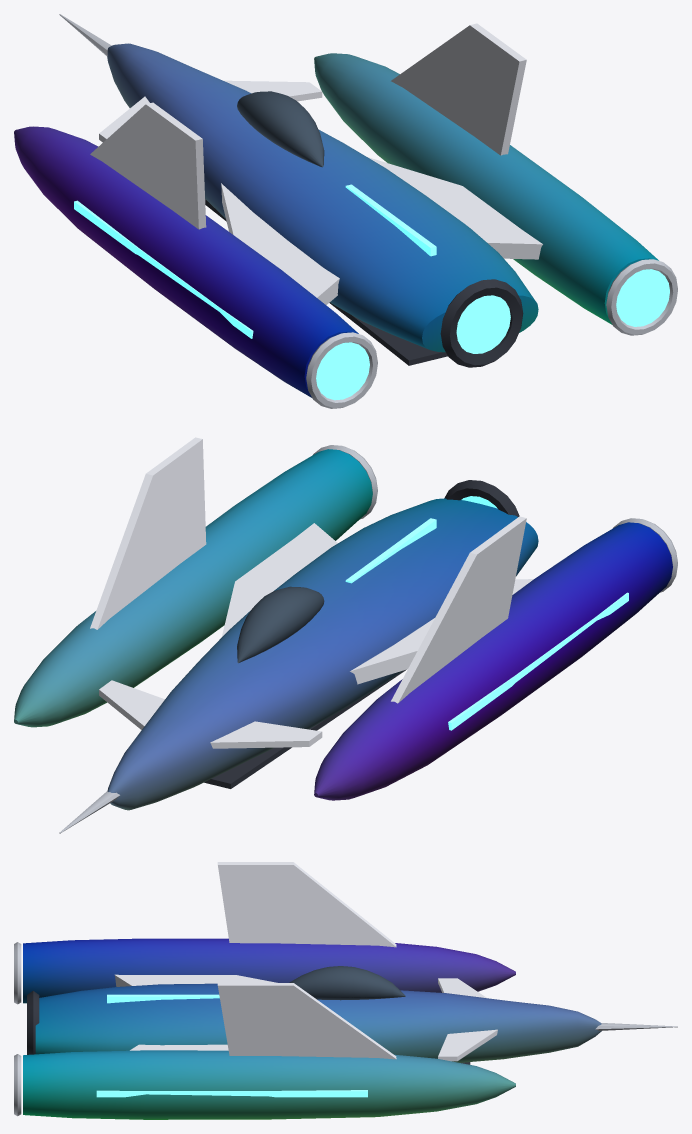
The model's file is dart.glb.
3 views of the same model, one above another, from view 1: azimuth 30°, elevation 25°; view 2: azimuth 150°, elevation 25°; view 3: azimuth 270°, elevation 25° (orthographic). The views are drawn at different scales.
Parts seen in each view (by area): view 1: dart_LOD0; view 2: dart_LOD0; view 3: dart_LOD0.
Boxes of the visible parts, x1,y1,x2,y2 form: dart_LOD0: (14, 14, 677, 408); dart_LOD0: (14, 437, 677, 833); dart_LOD0: (14, 862, 677, 1119).
Size of what is drawn, in the model's own units: 2.58 by 1.18 by 5.12.
